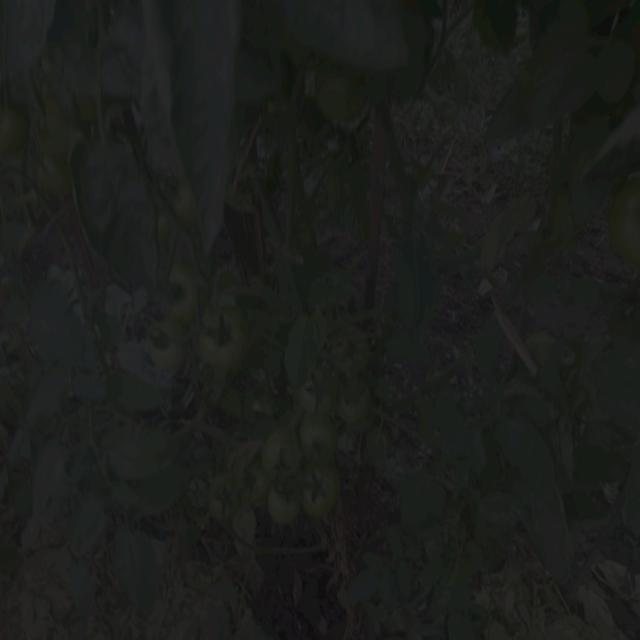tomato: (200, 304, 258, 370), (161, 266, 208, 319), (613, 177, 640, 267), (298, 464, 341, 517), (298, 415, 341, 465), (328, 334, 376, 377), (321, 80, 366, 124), (264, 430, 304, 479), (296, 374, 336, 421), (148, 317, 183, 367), (36, 152, 74, 198), (269, 478, 305, 526), (337, 377, 375, 419), (170, 182, 206, 225), (1, 103, 31, 154), (239, 467, 270, 507), (212, 485, 243, 518), (188, 481, 211, 510)
